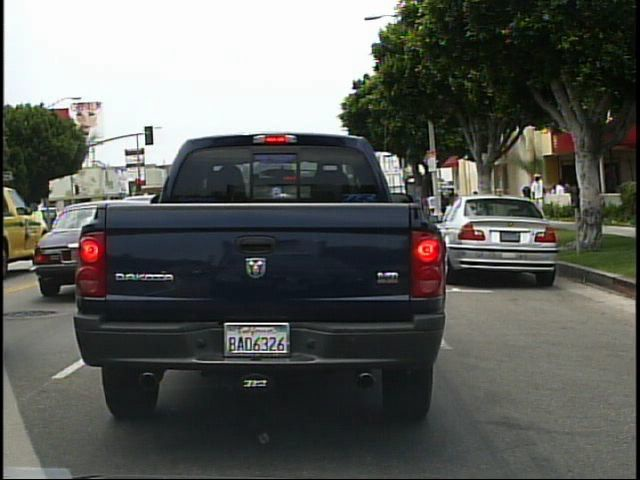person: (530, 167, 553, 218), (551, 177, 569, 222), (562, 175, 580, 216), (445, 185, 461, 219)
